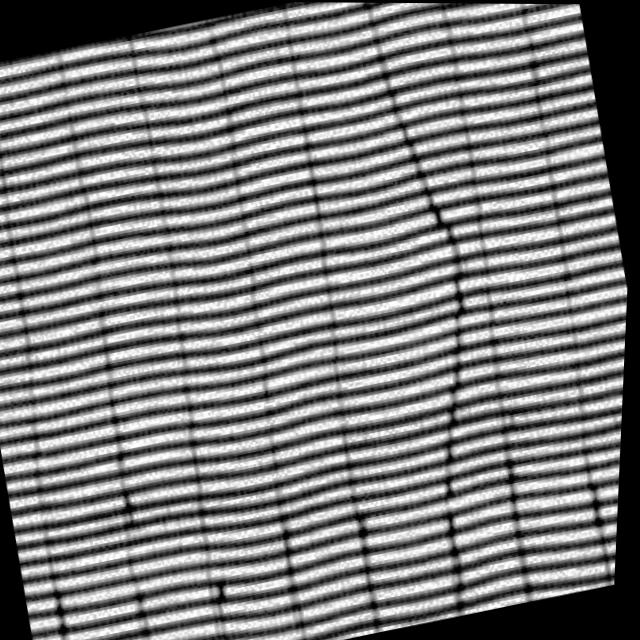Stitch: (319, 37, 555, 503)
